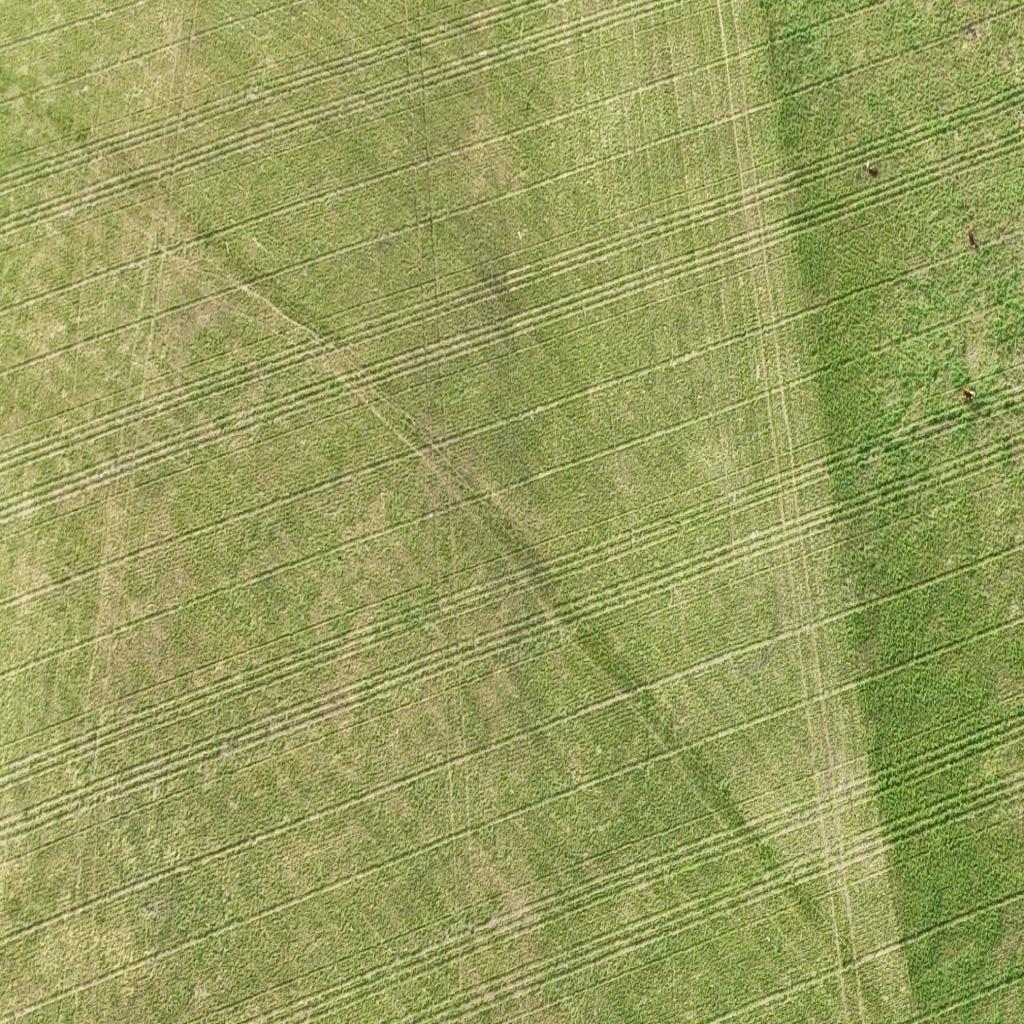cow: (966, 229, 977, 252), (864, 160, 878, 178), (960, 385, 974, 403)
